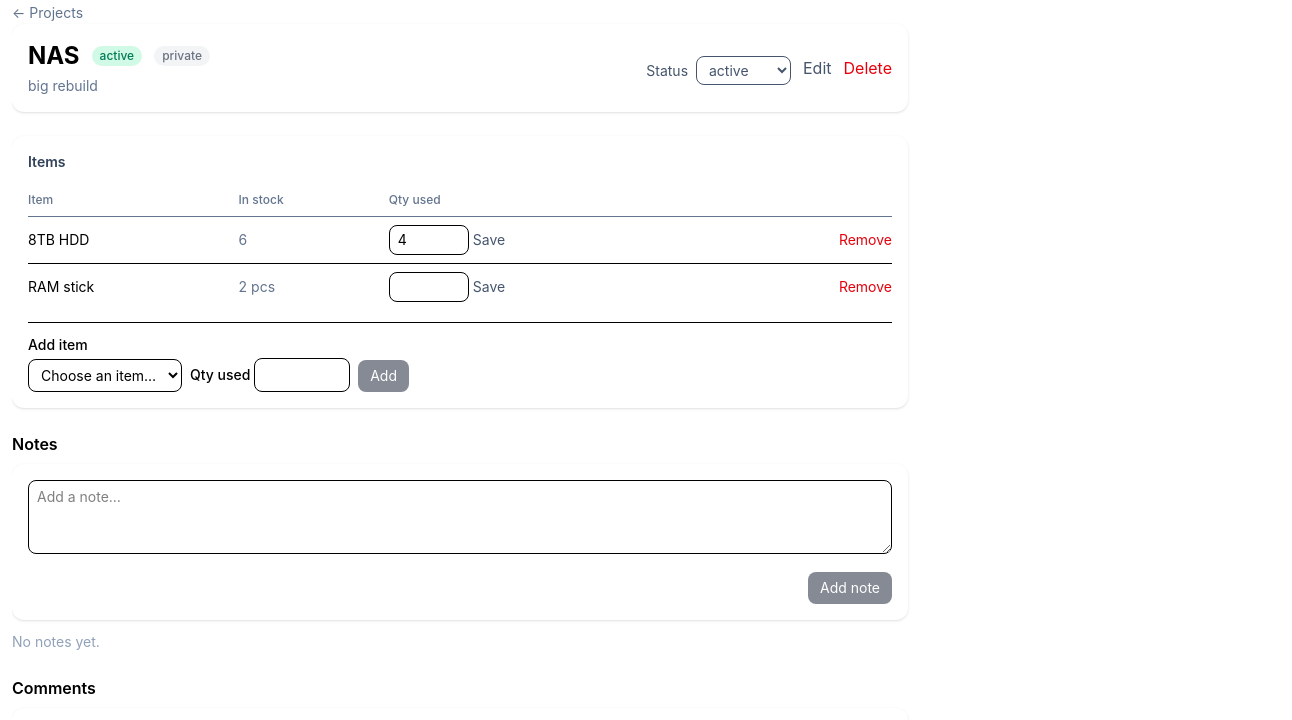
Scenario: ProjectDetailView › toggles visibility from the badge (owner)
Click the button "private". click: (182, 56)
box: [154, 46, 210, 66]
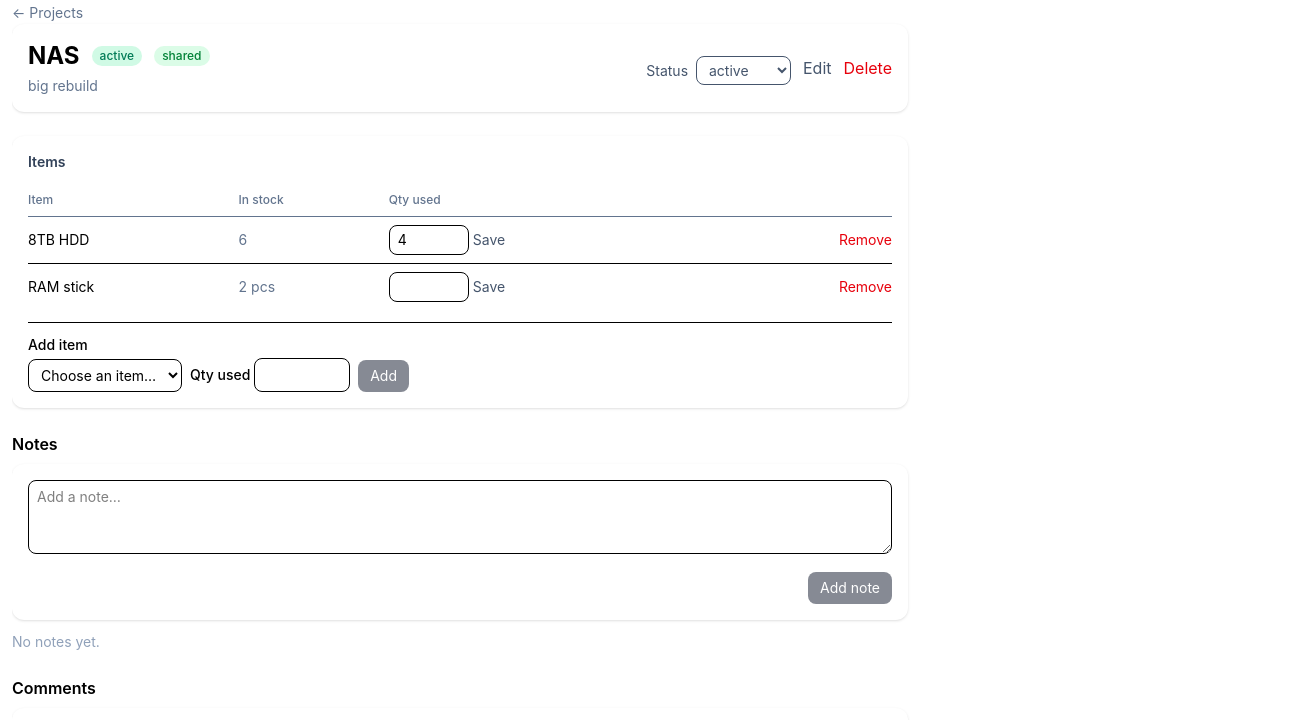
Expected: the button "shared" is shown, [154, 46, 210, 66]
